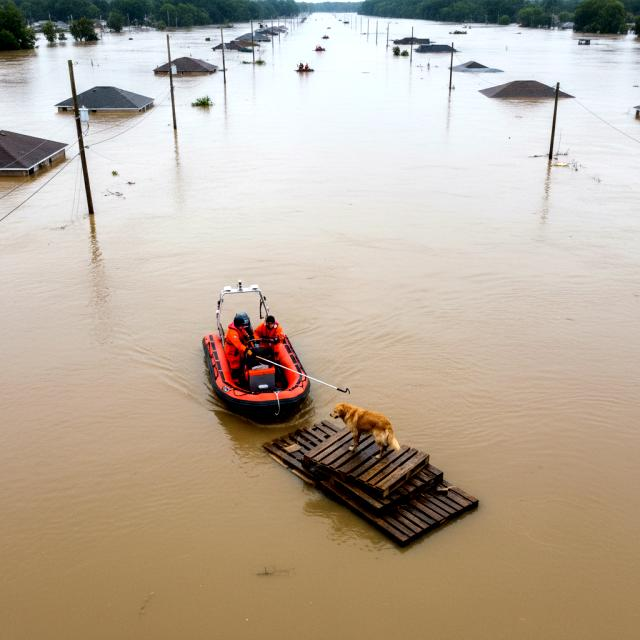dog: (328, 397, 406, 462)
rescuer: (222, 312, 257, 381), (251, 311, 287, 358)
